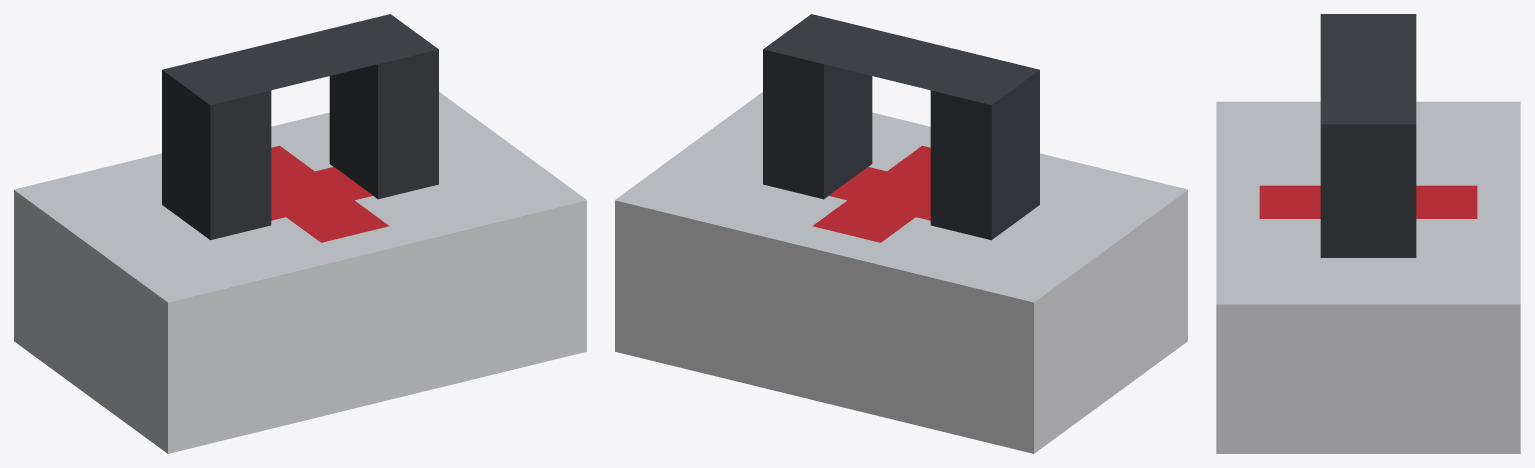
The model's file is medkit (1).glb.
The picture shows the model from 3 angles, left to right: view 1: azimuth 30°, elevation 25°; view 2: azimuth 150°, elevation 25°; view 3: azimuth 270°, elevation 25°; orthographic projection.
Visible parts, largest first — view 1: Medkit; view 2: Medkit; view 3: Medkit.
Part boxes in pixels (left/top/right/bottom): Medkit: left=14, top=14, right=586, bottom=453; Medkit: left=615, top=14, right=1187, bottom=453; Medkit: left=1216, top=14, right=1520, bottom=453.
Size of the model in its own units: 0.11 by 0.072 by 0.07.
Materials: 1 (1 with a texture image).
